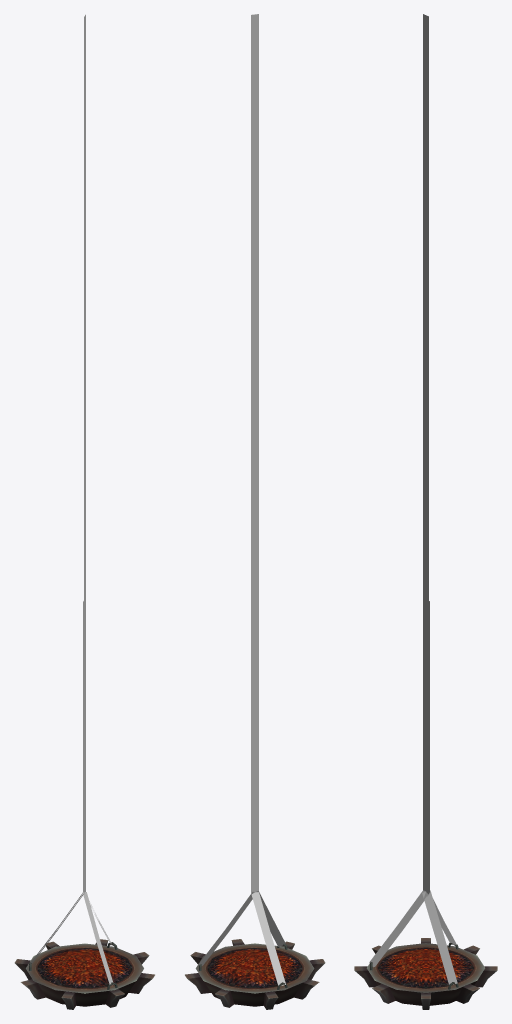
Rendered from M11_B_huopensmall.FBX.
The picture shows the model from 3 angles, left to right: view 1: azimuth 30°, elevation 25°; view 2: azimuth 150°, elevation 25°; view 3: azimuth 270°, elevation 25°; orthographic projection.
Parts seen in each view (by area): view 1: M11_B_huopensmall001, M11_B_huopensmallliantiao001; view 2: M11_B_huopensmallliantiao001, M11_B_huopensmall001; view 3: M11_B_huopensmallliantiao001, M11_B_huopensmall001.
Boxes of the visible parts, x1=… form: M11_B_huopensmall001: x1=14, y1=939, x2=154, y2=1009; M11_B_huopensmallliantiao001: x1=29, y1=14, x2=113, y2=985; M11_B_huopensmallliantiao001: x1=198, y1=14, x2=285, y2=985; M11_B_huopensmall001: x1=185, y1=939, x2=325, y2=1009; M11_B_huopensmallliantiao001: x1=369, y1=14, x2=457, y2=984; M11_B_huopensmall001: x1=354, y1=938, x2=497, y2=1009.
Size of the model in its own units: 165 by 1248 by 165.
